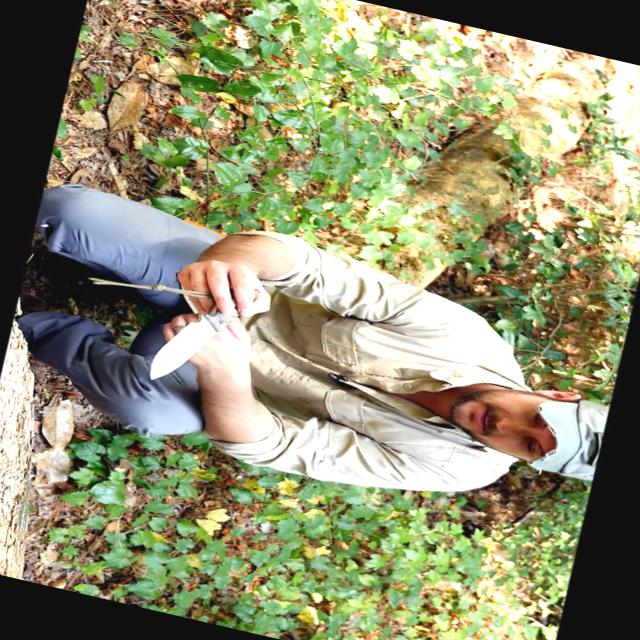knife: (140, 256, 278, 408)
